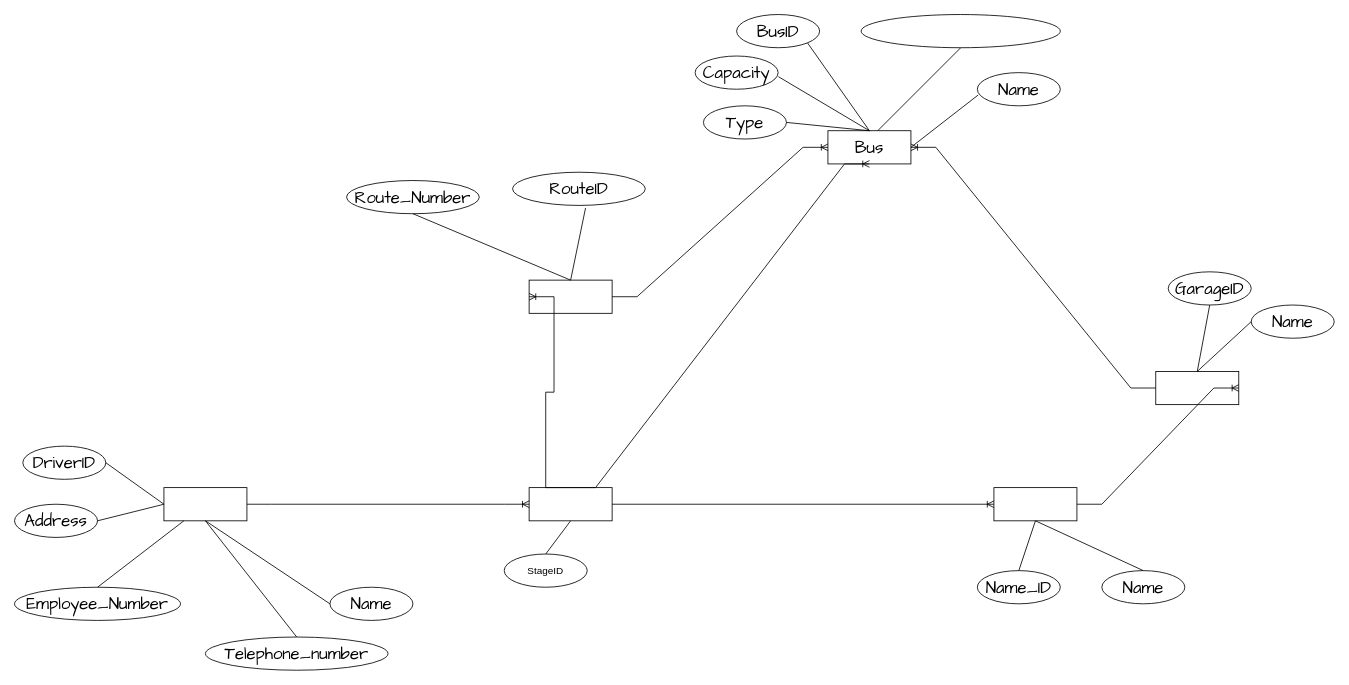
This 1349x685 diagram has some shape labels left out. The shapes that lost their labels are listed below. From the top down, each one's centre as x and y in pixels, then its label:
At point 960,31: "Registration_number".
At point 570,296: "Route".
At point 1197,388: "Garage".
At point 205,504: "Driver".
At point 570,504: "Stage".
At point 1035,504: "Town".
